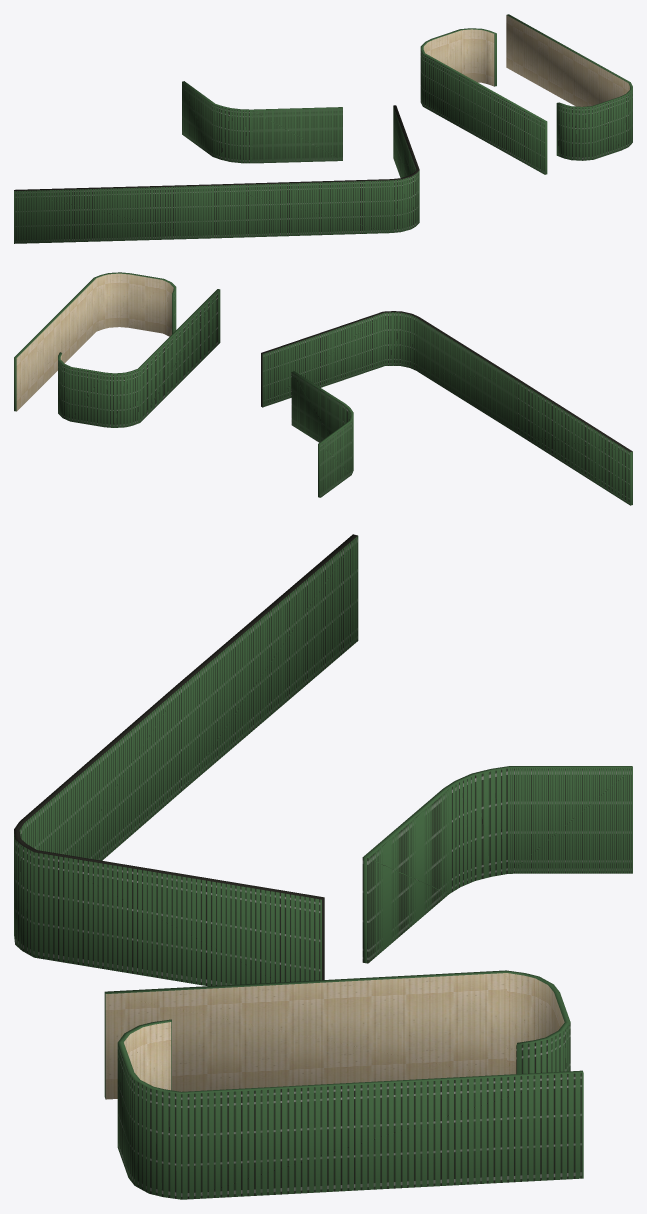
The model's file is TELLUS_arena_blueScreen.FBX.
The picture shows the model from 3 angles, top to bottom: view 1: azimuth 30°, elevation 25°; view 2: azimuth 150°, elevation 25°; view 3: azimuth 270°, elevation 25°; orthographic projection. The views are drawn at different scales.
Parts seen in each view (by area): view 1: TELLUS_arena_blueScreen; view 2: TELLUS_arena_blueScreen; view 3: TELLUS_arena_blueScreen.
Part boxes in pixels (<box>): TELLUS_arena_blueScreen: <box>14,14,632,243</box>; TELLUS_arena_blueScreen: <box>14,272,632,505</box>; TELLUS_arena_blueScreen: <box>14,534,632,1199</box>.
Size of the model in its own units: 3294 by 1538 by 290.
